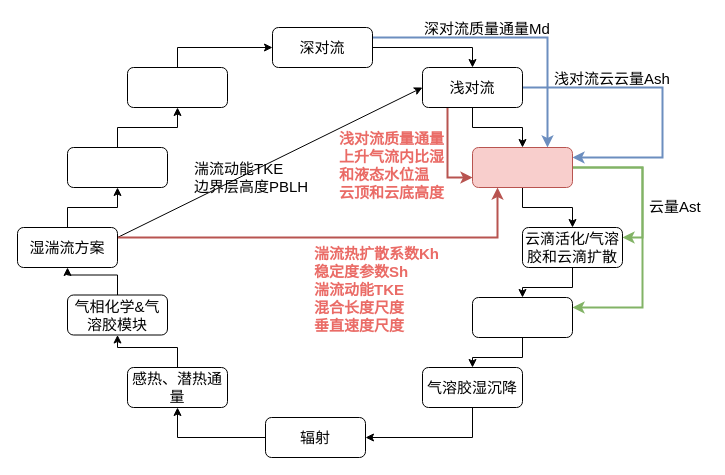
This 725x475 diagram has some shape labels left out. The centre of each missing label's shape, as x and y in pixels:
"大气动力" belongs at (x=177, y=87).
"层云宏物理" belongs at (x=522, y=167).
"层云微物理" belongs at (x=522, y=317).
"气溶胶干沉降" belongs at (x=117, y=167).
